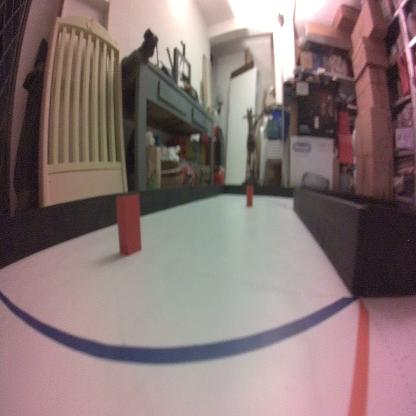red: (114, 192, 141, 257), (246, 184, 254, 208)
